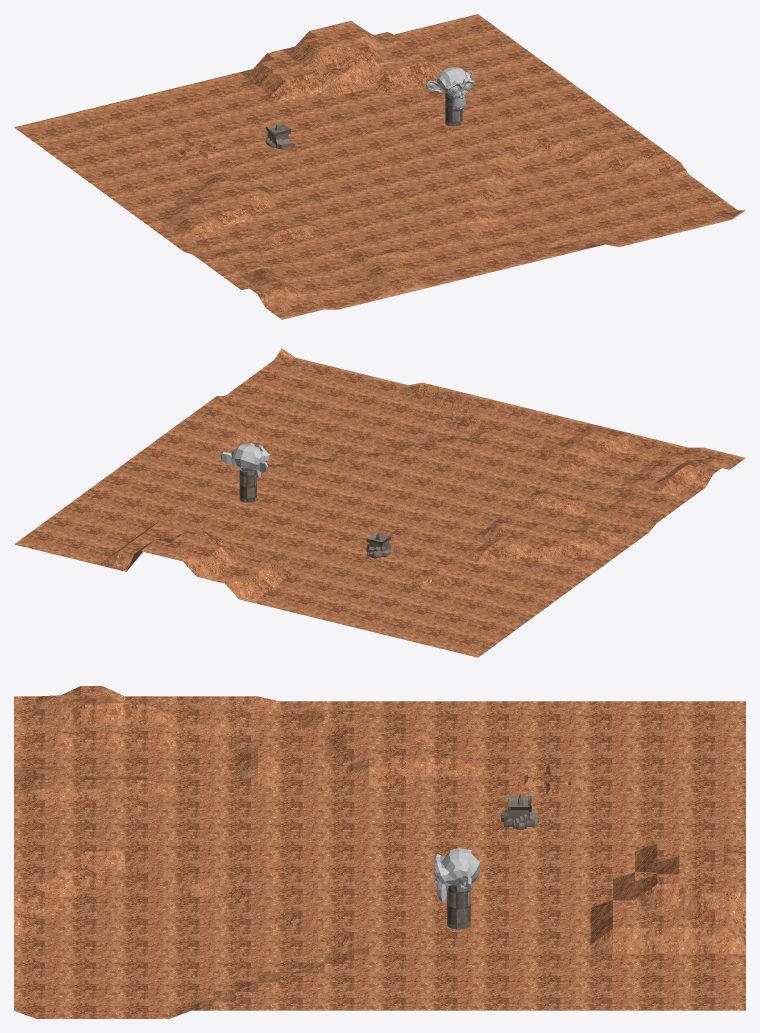
3 views of the same model, one above another, from view 1: azimuth 30°, elevation 25°; view 2: azimuth 150°, elevation 25°; view 3: azimuth 270°, elevation 25° (orthographic). The views are drawn at different scales.
Visible parts, largest first — view 1: Plane, StatueMonkey_Suzanne, WeirdStatue_Cube.001; view 2: Plane, StatueMonkey_Suzanne, StatueCylinder_Cylinder, WeirdStatue_Cube.001; view 3: Plane, StatueMonkey_Suzanne, WeirdStatue_Cube.001, StatueCylinder_Cylinder.
Boxes of the visible parts, x1,y1,x2,y2 form: Plane: [14, 14, 745, 319]; StatueMonkey_Suzanne: [426, 67, 474, 109]; WeirdStatue_Cube.001: [265, 123, 291, 149]; Plane: [14, 348, 745, 657]; StatueMonkey_Suzanne: [220, 443, 269, 477]; StatueCylinder_Cylinder: [239, 469, 256, 502]; WeirdStatue_Cube.001: [366, 532, 391, 558]; Plane: [14, 686, 745, 1018]; StatueMonkey_Suzanne: [433, 848, 479, 902]; WeirdStatue_Cube.001: [501, 795, 539, 829]; StatueCylinder_Cylinder: [447, 885, 470, 929].
Bounding box in the file's own units: 216 × 26.27 × 216.
Materials: 4 (3 with a texture image).
